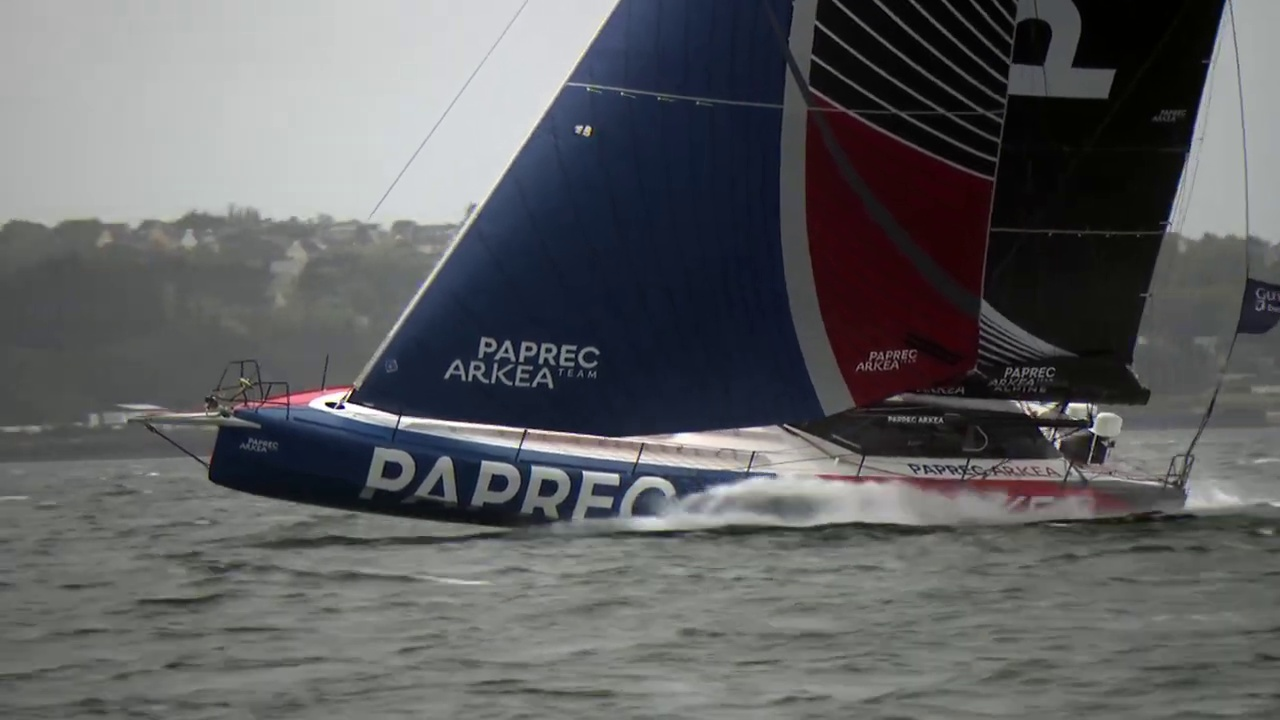pennon: (695, 99, 717, 109), (657, 94, 676, 105), (585, 87, 604, 95), (620, 91, 637, 99)
